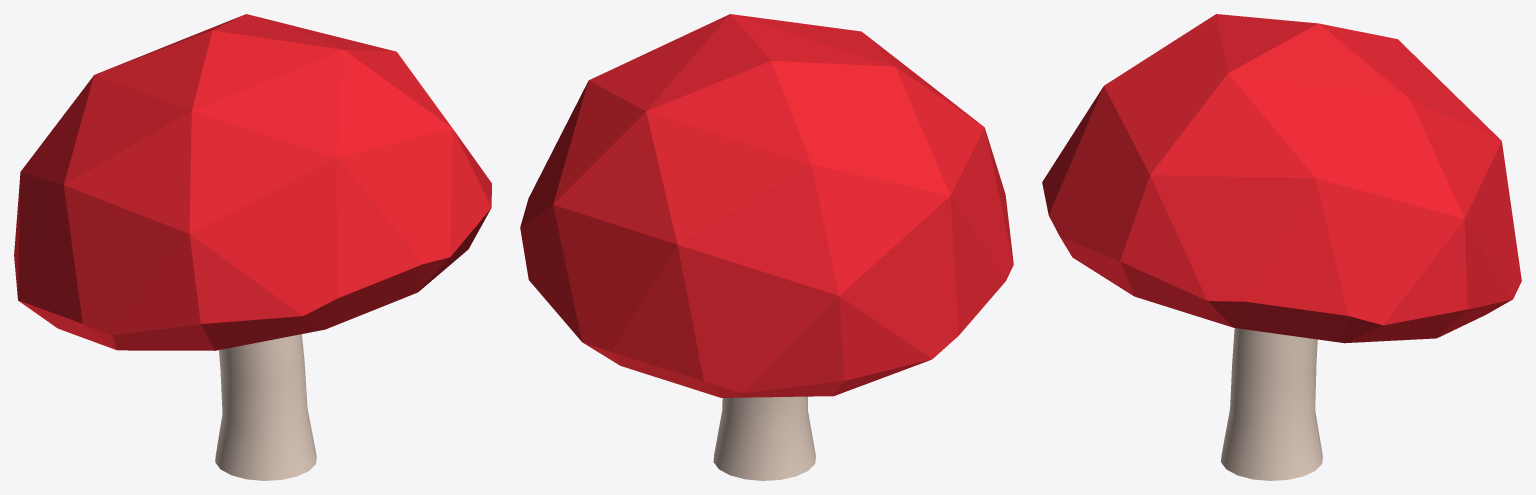
File: Mushroom2.fbx
The picture shows the model from 3 angles, left to right: view 1: azimuth 30°, elevation 25°; view 2: azimuth 150°, elevation 25°; view 3: azimuth 270°, elevation 25°; orthographic projection.
Visible parts, largest first — view 1: GeoSphere003, Cylinder002; view 2: GeoSphere003, Cylinder002; view 3: GeoSphere003, Cylinder002.
Boxes of the visible parts, x1,y1,x2,y2 form: GeoSphere003: (14,14,491,350); Cylinder002: (215,334,316,480); GeoSphere003: (520,14,1013,397); Cylinder002: (713,396,815,480); GeoSphere003: (1042,14,1521,343); Cylinder002: (1221,328,1322,480).
Bounding box in the file's own units: 10.66 × 10.28 × 10.62.
1 material, 1 textured.
